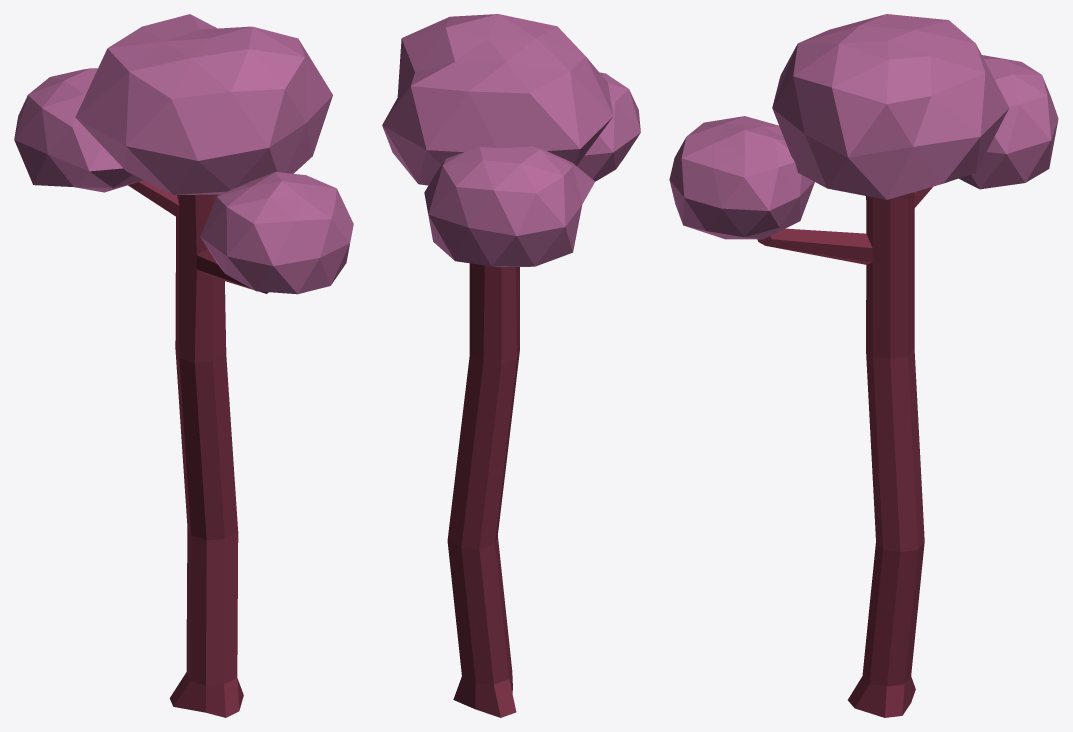
Rendered from Mo_ForestTree08.fbx.
The picture shows the model from 3 angles, left to right: view 1: azimuth 30°, elevation 25°; view 2: azimuth 150°, elevation 25°; view 3: azimuth 270°, elevation 25°; orthographic projection.
Visible parts, largest first — view 1: Cube; view 2: Cube; view 3: Cube.
Part boxes in pixels (x1=…): Cube: x1=14, y1=14, x2=353, y2=717; Cube: x1=382, y1=14, x2=640, y2=717; Cube: x1=669, y1=14, x2=1058, y2=717.
Bounding box in the file's own units: 107 × 285 × 151.
